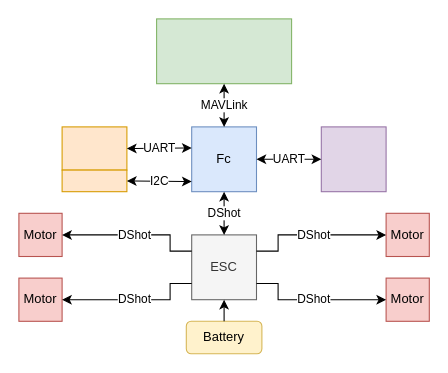
Image size: 448x373. Some labels were removed from this diagram. Each missing label, with the box of its shape:
Compass: (61, 169, 127, 192)
GPS: (61, 126, 127, 170)
RaspberryPi: (156, 18, 292, 84)
Receiver: (320, 126, 386, 192)
